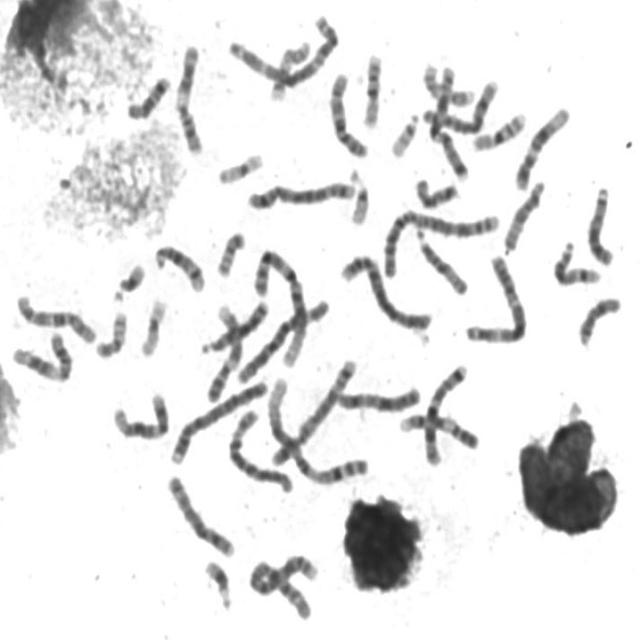A1: (264, 372, 371, 486), (249, 244, 310, 370)
A2: (376, 204, 503, 278), (245, 550, 322, 622)
A3: (227, 10, 341, 87), (461, 250, 528, 346)
B4: (166, 374, 270, 466), (336, 248, 433, 333)
B5: (266, 353, 360, 470), (244, 175, 358, 212)
C10: (11, 289, 99, 346), (324, 66, 371, 160)
C11: (171, 39, 207, 157), (8, 325, 75, 385)
C12: (511, 100, 572, 193), (109, 387, 171, 442)
C6: (235, 294, 332, 387), (225, 403, 296, 496)
C7: (422, 58, 472, 183), (419, 358, 471, 468)
C8: (162, 469, 238, 560), (422, 74, 500, 136)
C9: (202, 300, 244, 404), (395, 408, 482, 452)
D13: (198, 295, 271, 356), (583, 181, 616, 268)
D14: (150, 239, 207, 294), (549, 236, 604, 288)
D15: (412, 225, 471, 298), (499, 174, 548, 256)
E16: (468, 106, 529, 153), (358, 48, 384, 130)
E17: (266, 34, 312, 102), (418, 57, 478, 109)
E18: (575, 291, 624, 349), (123, 71, 172, 121)
F19: (136, 292, 170, 359), (213, 146, 266, 186)
F20: (91, 306, 129, 361), (212, 225, 248, 279)
G21: (108, 256, 147, 304), (200, 556, 234, 611)
G22: (386, 108, 422, 159), (345, 163, 372, 227)
X: (332, 380, 422, 414)
